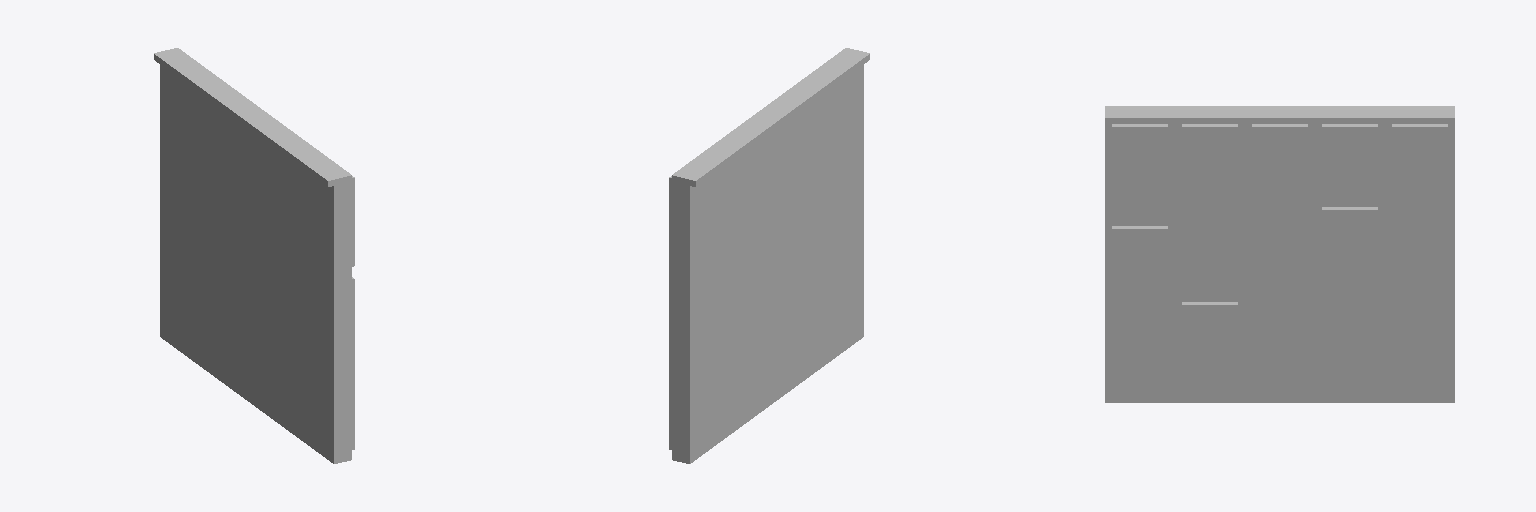
File: Kitchen_wall3.obj
3 renders of one model, left to right at view 1: azimuth 30°, elevation 25°; view 2: azimuth 150°, elevation 25°; view 3: azimuth 270°, elevation 25°, orthographic.
Parts seen in each view (by area): view 1: object 1; view 2: object 1; view 3: object 1.
Boxes of the visible parts, x1,y1,x2,y2 form: object 1: [154, 48, 354, 463]; object 1: [669, 48, 869, 463]; object 1: [1105, 106, 1454, 402].
Size of the model in its own units: 0.5 by 4.5 by 5.